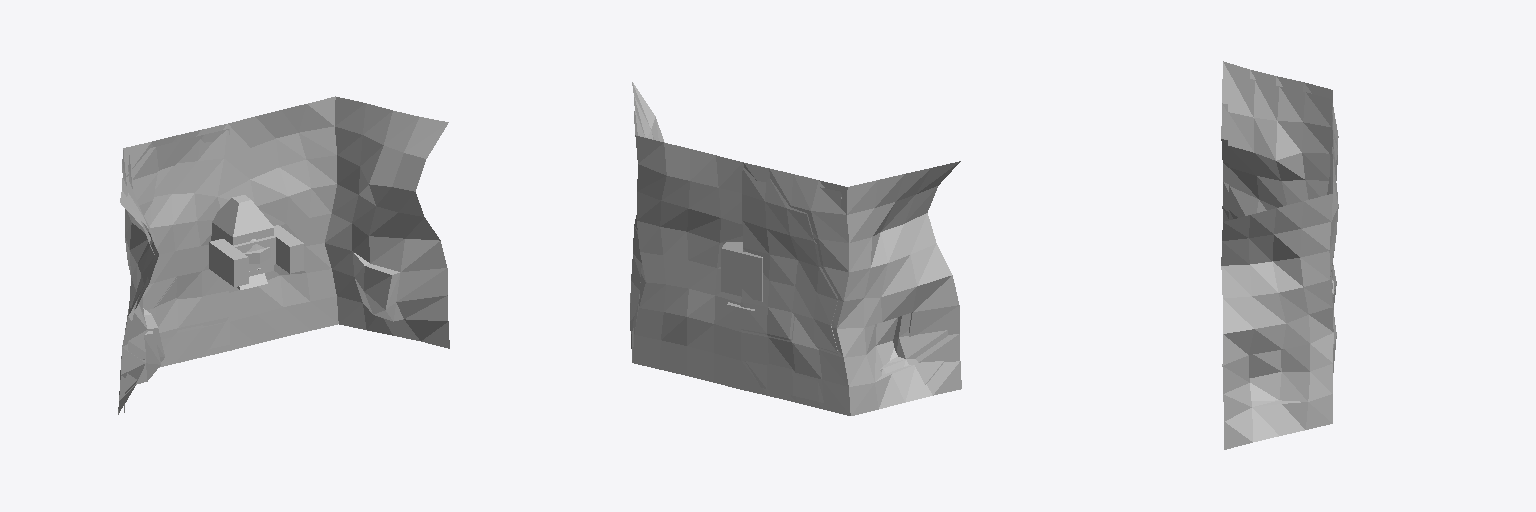
Rendered from speed.obj.
The picture shows the model from 3 angles: view 1: azimuth 30°, elevation 25°; view 2: azimuth 150°, elevation 25°; view 3: azimuth 270°, elevation 25°; orthographic projection.
Visible parts, largest first — view 1: Piece, Plane, Cube_Cube.001, Speed; view 2: Piece, Plane, Speed; view 3: Piece, Plane.
Boxes of the visible parts, x1,y1,x2,y2 form: Piece: [118, 96, 449, 414]; Plane: [124, 129, 229, 412]; Cube_Cube.001: [209, 225, 303, 286]; Speed: [211, 195, 273, 289]; Piece: [630, 82, 961, 415]; Plane: [741, 168, 947, 402]; Speed: [721, 242, 762, 310]; Piece: [1221, 61, 1338, 449]; Plane: [1228, 73, 1337, 304].
Size of the model in its own units: 64.32 by 42.35 by 19.67.